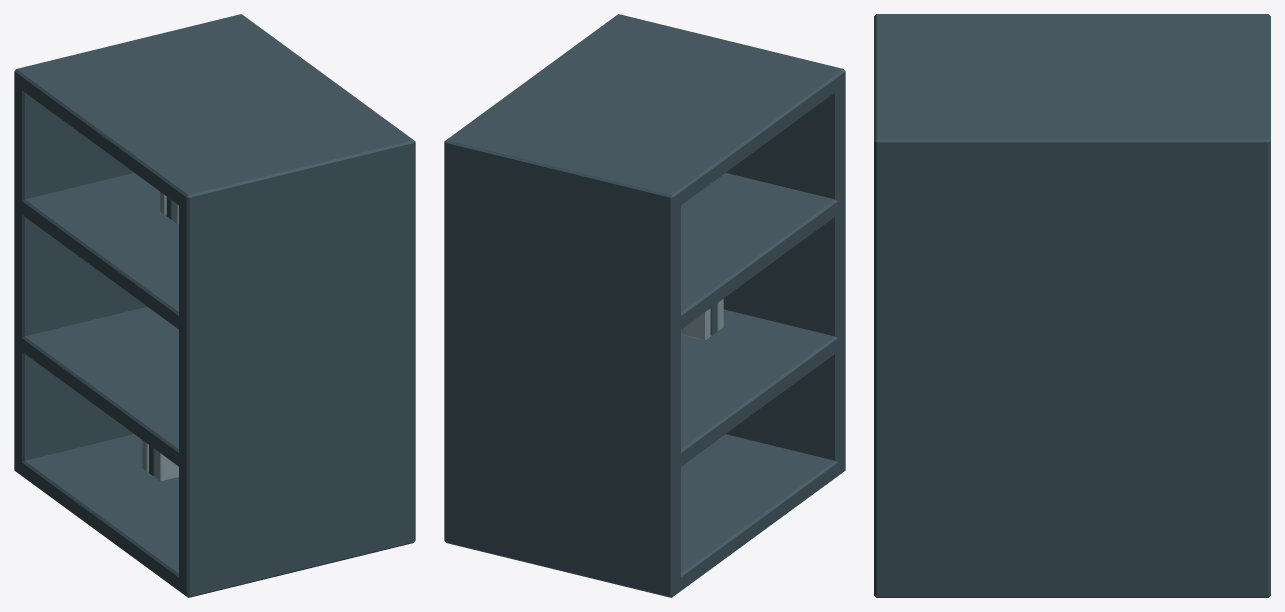
The model's file is etagere_couloir.glb.
3 renders of one model, left to right at view 1: azimuth 30°, elevation 25°; view 2: azimuth 150°, elevation 25°; view 3: azimuth 270°, elevation 25°, orthographic. The views are drawn at different scales.
Visible parts, largest first — view 1: etagere_couloir; view 2: etagere_couloir; view 3: etagere_couloir.
Boxes of the visible parts, x1,y1,x2,y2 form: etagere_couloir: (14, 14, 415, 597); etagere_couloir: (444, 14, 845, 597); etagere_couloir: (874, 14, 1270, 597).
Bounding box in the file's own units: 1.1 × 1.85 × 1.45.
1 material, 1 textured.
